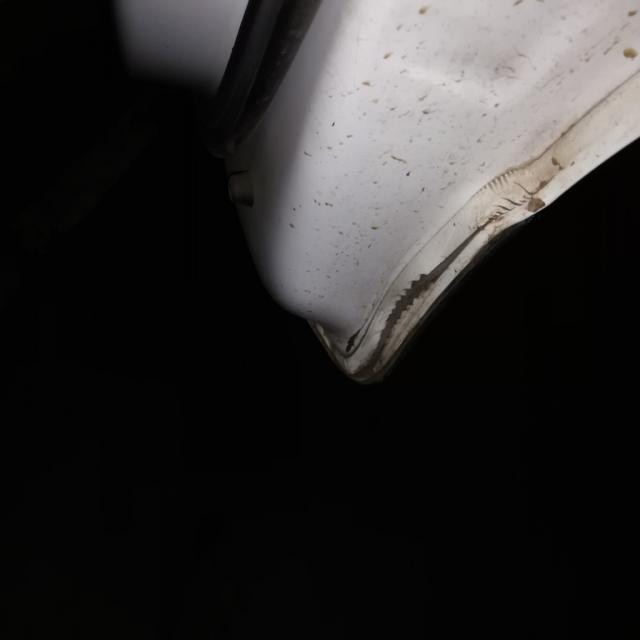damage: (306, 116, 583, 401)
